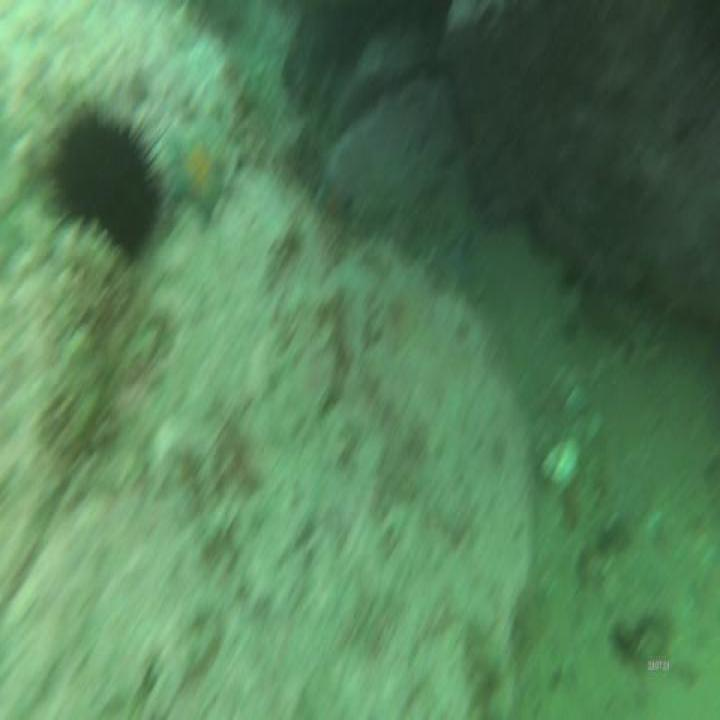echinus: (51, 103, 161, 260)
starfish: (168, 124, 227, 217)
